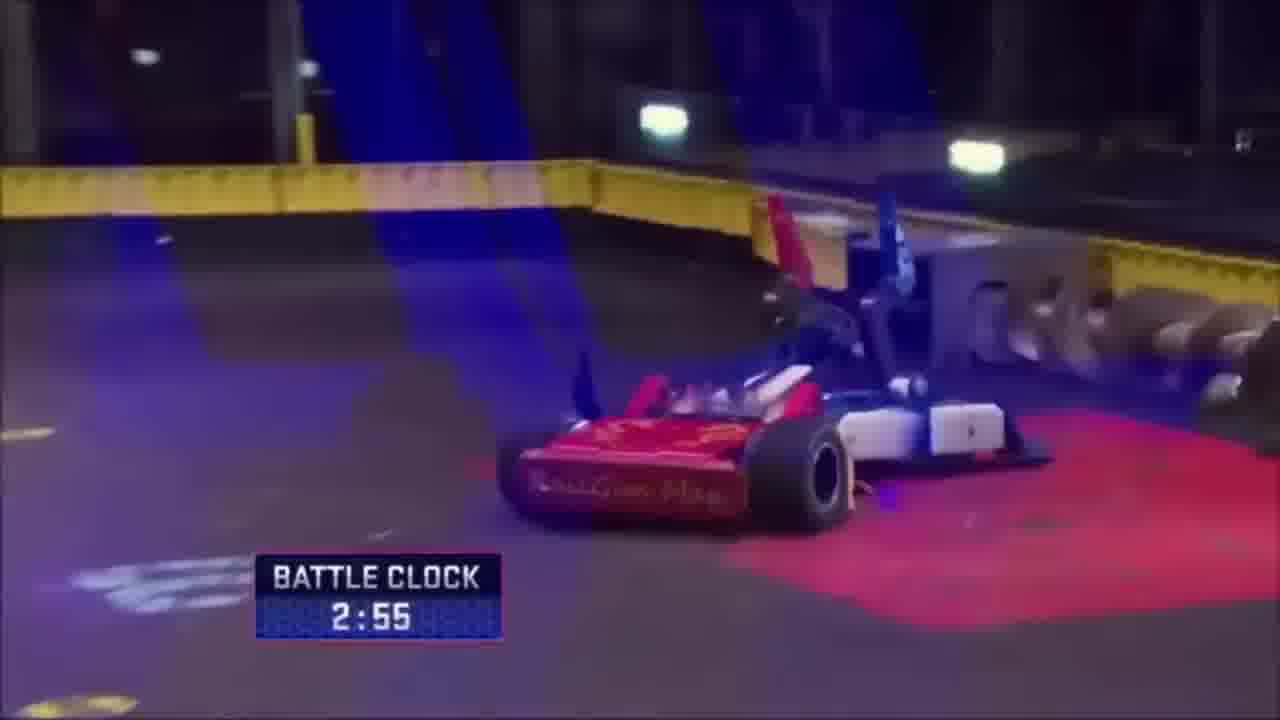combatbot: (567, 168, 1050, 465), (498, 328, 870, 540)
